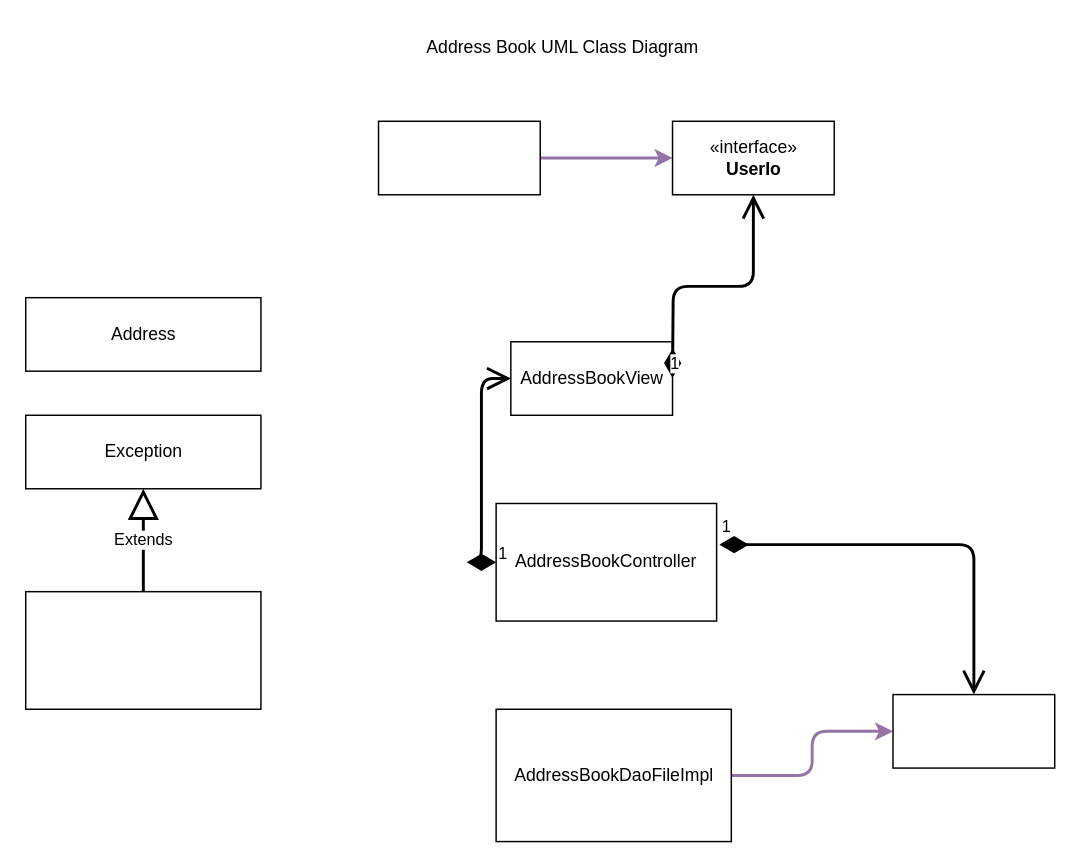
Image size: 1080x867. Some labels were removed from this diagram. Each missing label, with the box of its shape:
AddressBookDaoException: (24, 590, 261, 709)
UserIOConsoleImpl: (377, 120, 540, 195)
«interface» AddressBookDao: (892, 693, 1055, 768)
